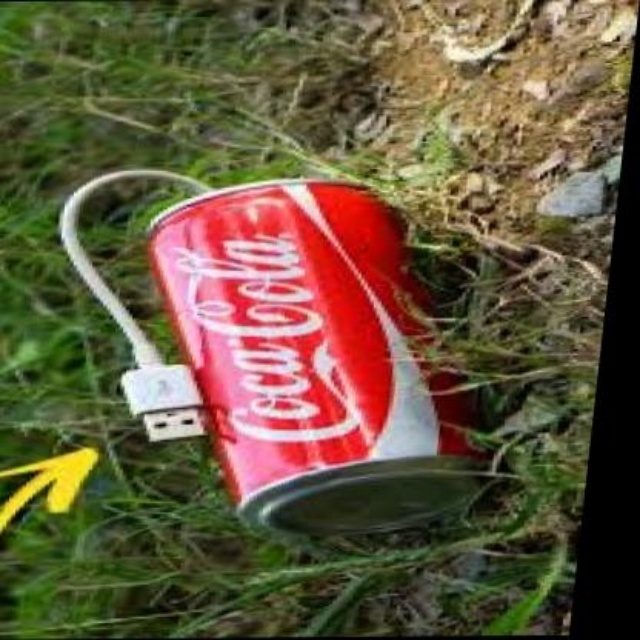trash: (60, 169, 498, 534), (151, 180, 491, 532)
